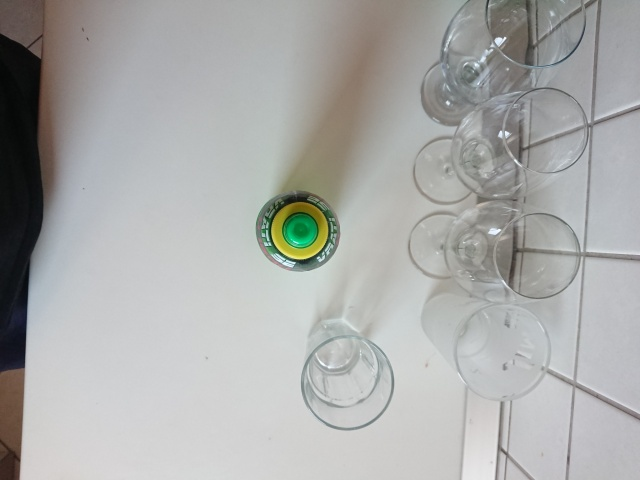Vindi Iso Sport Lemon-Grapefruit 500mL: (252, 186, 344, 275)
